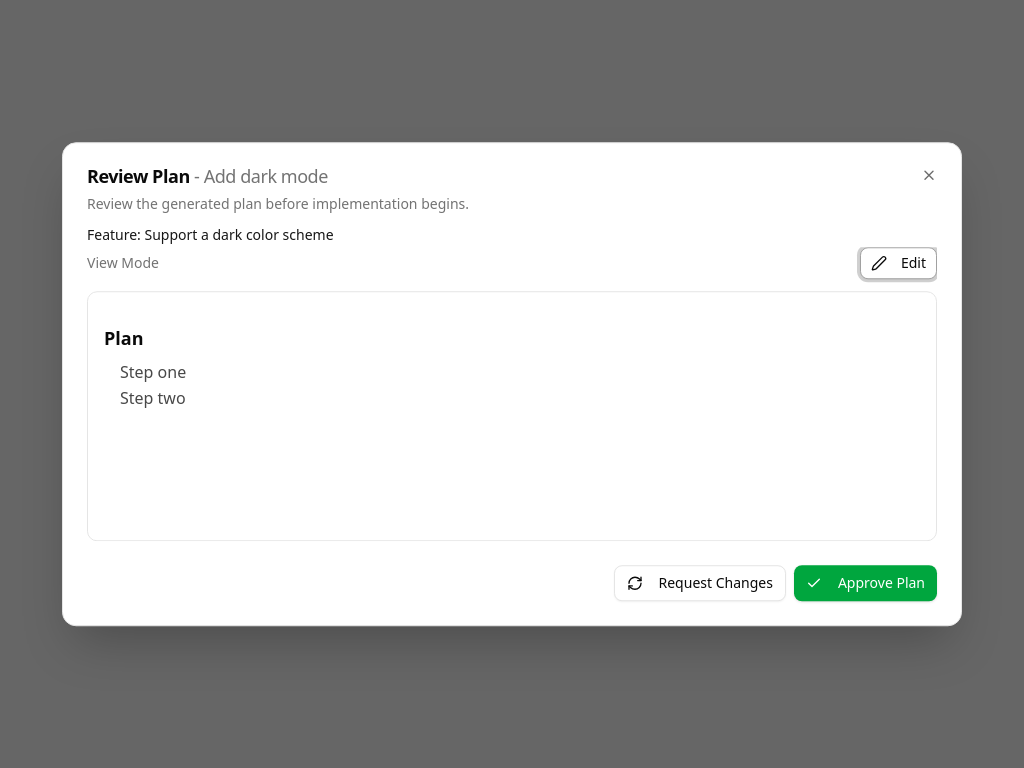
Test: PlanApprovalDialog — reject / feedback flow › shows "Revise Plan" button when feedback text is entered
Click the button "Request Changes" at (700, 583), box x1=614 y1=565 x2=786 y2=601
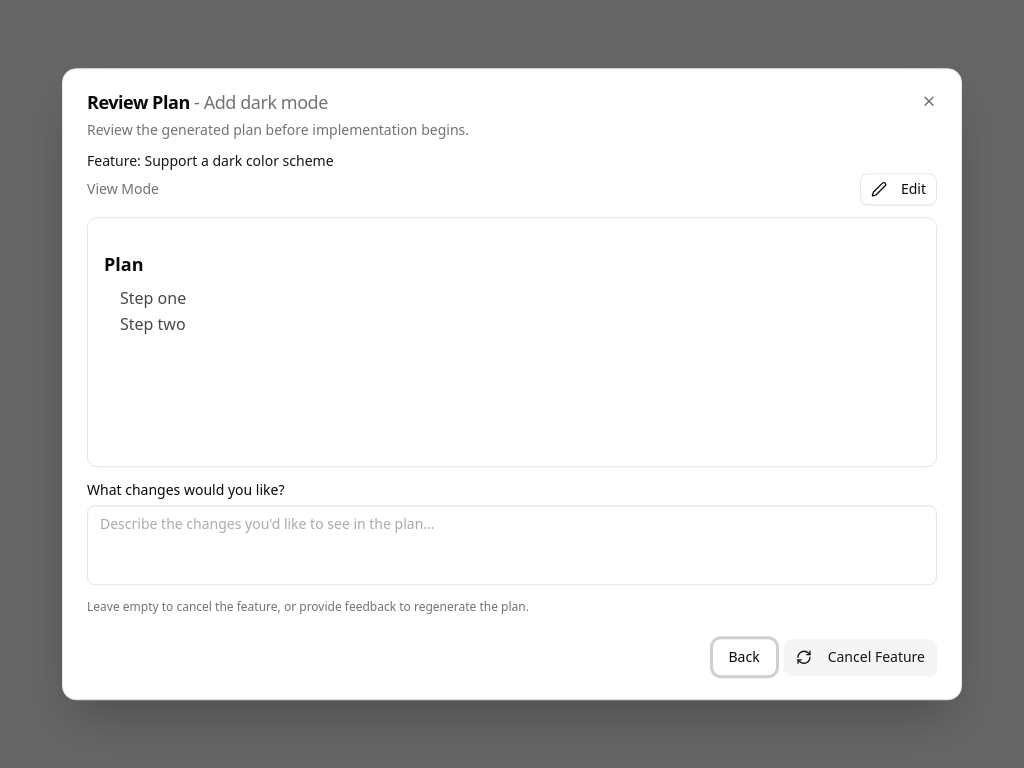
Type "Please add error handling" into the text box labelled "What changes would you like?" at (512, 545), box x1=87 y1=505 x2=937 y2=585
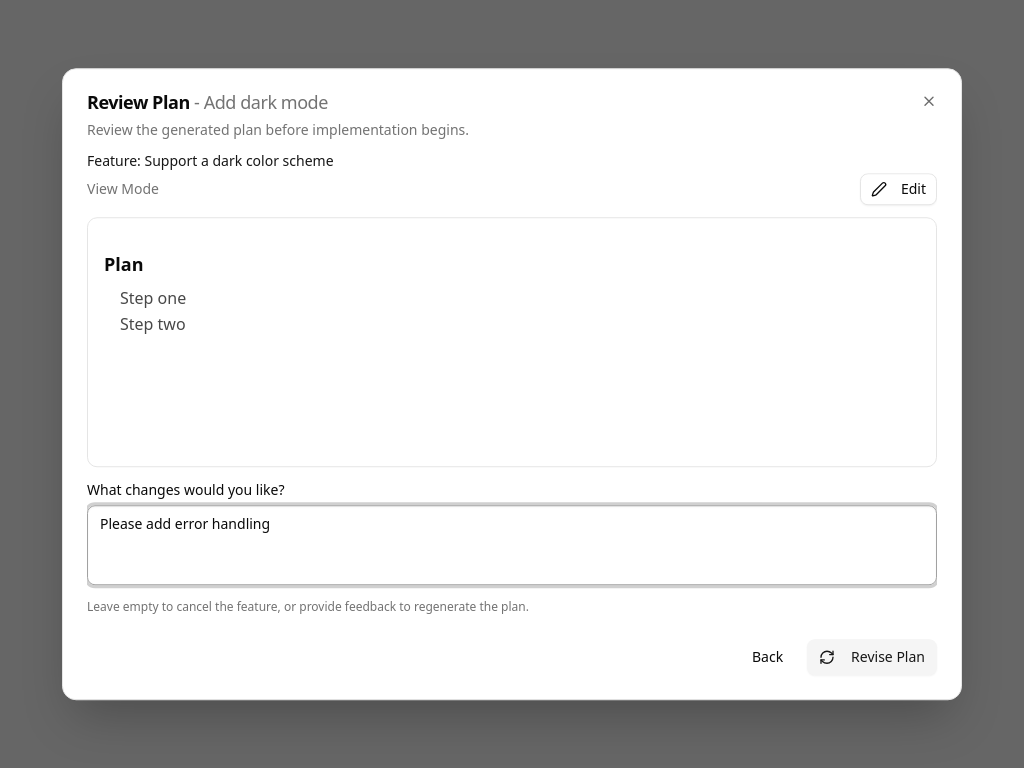
Expected: the button "Revise Plan" is shown, x1=807 y1=639 x2=937 y2=675
